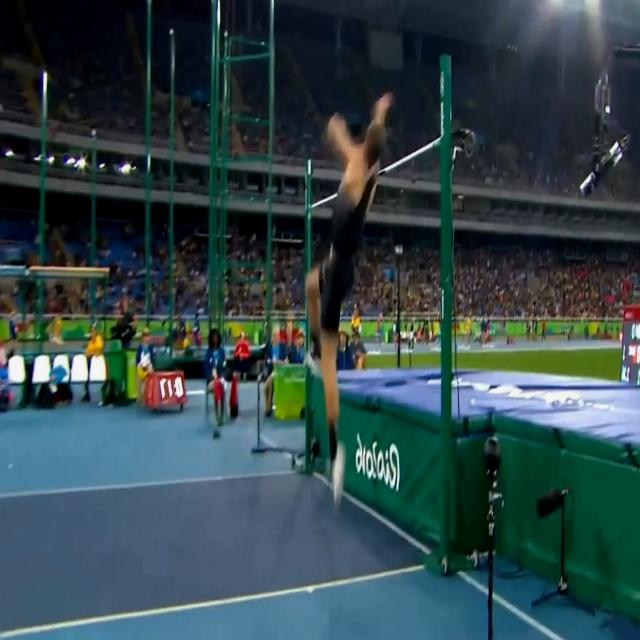jump: (304, 88, 394, 516)
